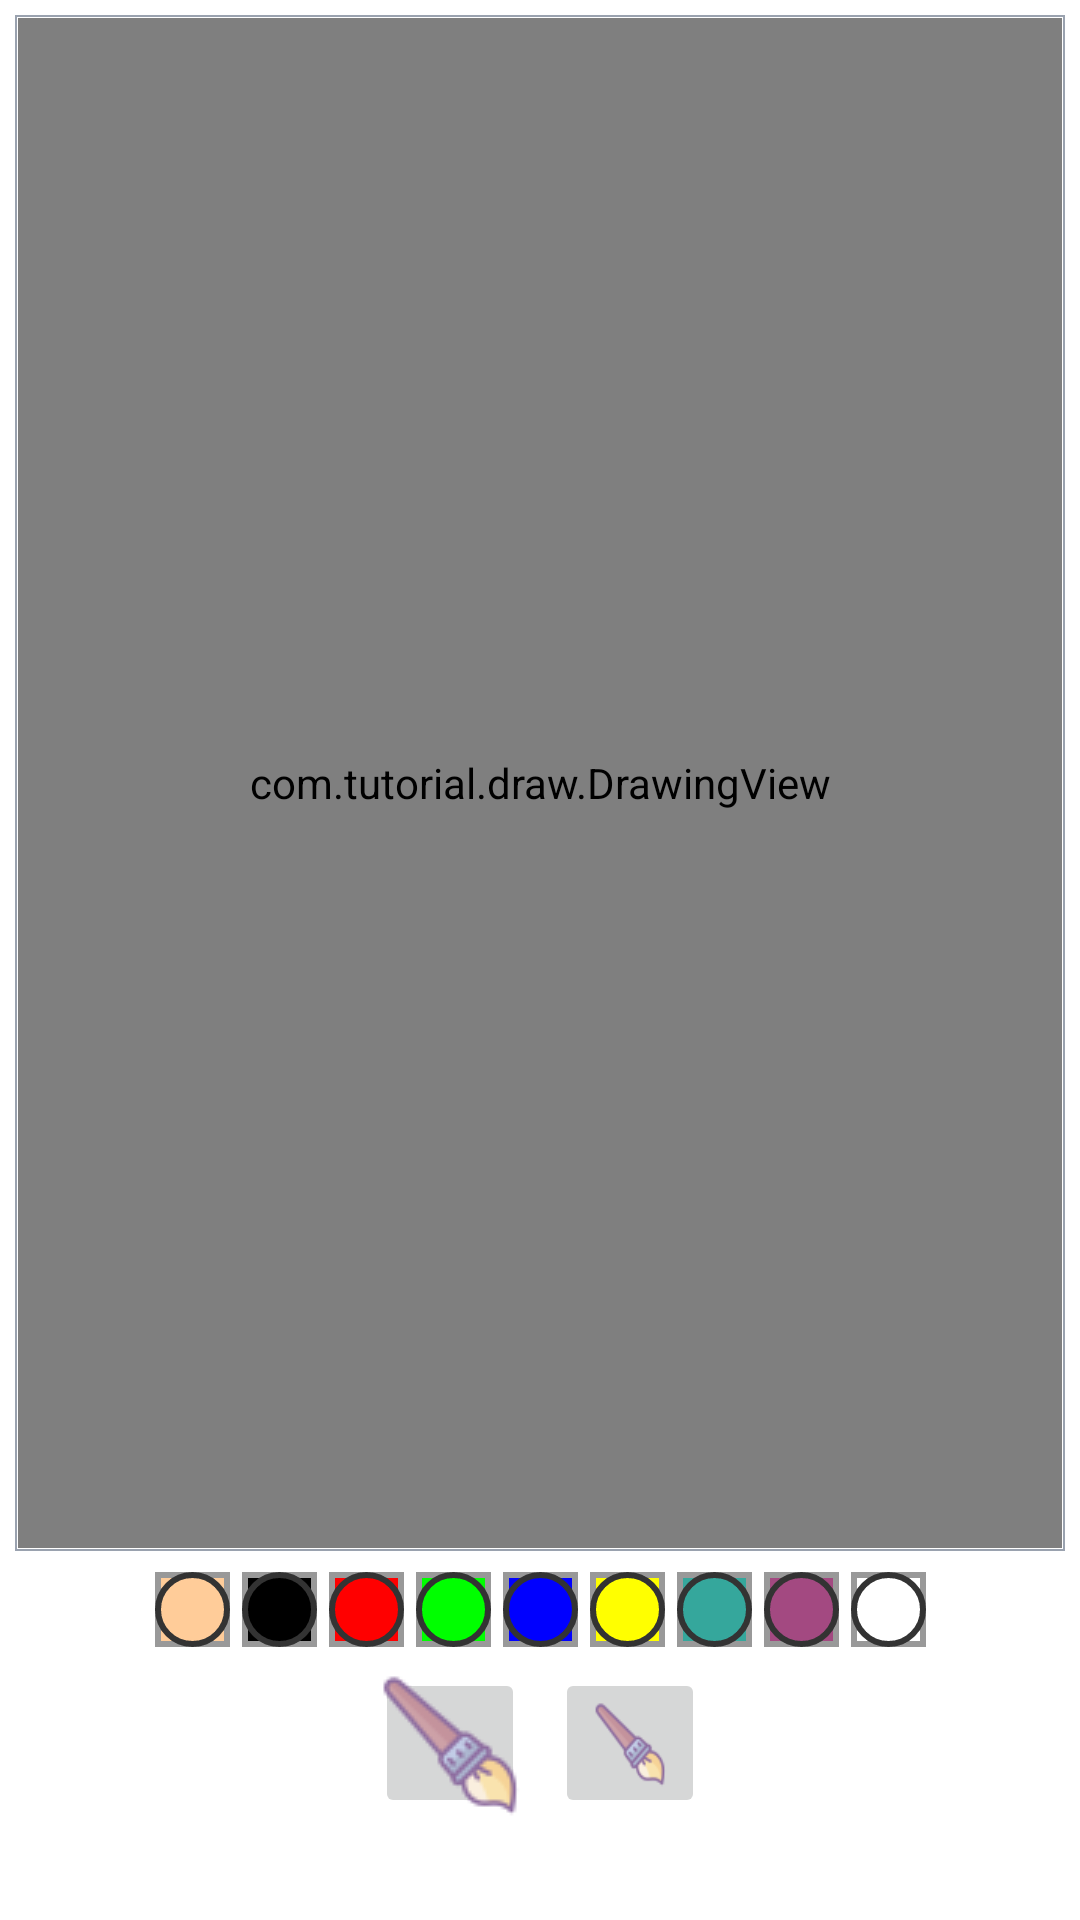

Screen size 1080w x 1920h. Icon name, then its center in pixels as (x=x, y=y):
brush: (x=450, y=1744), (x=630, y=1743)
